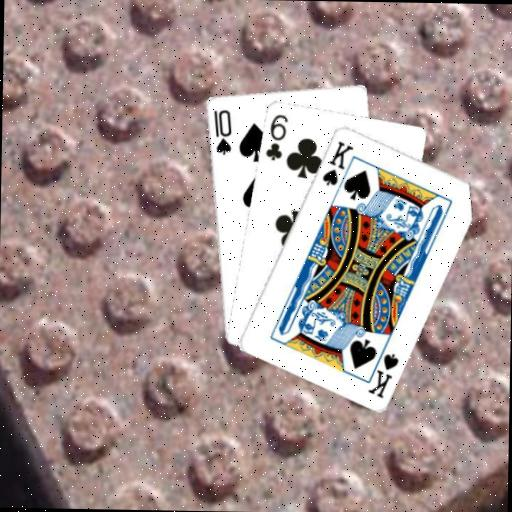10S: (209, 106, 233, 156)
6C: (262, 111, 290, 162)
KS: (363, 341, 400, 399), (319, 137, 355, 188)
